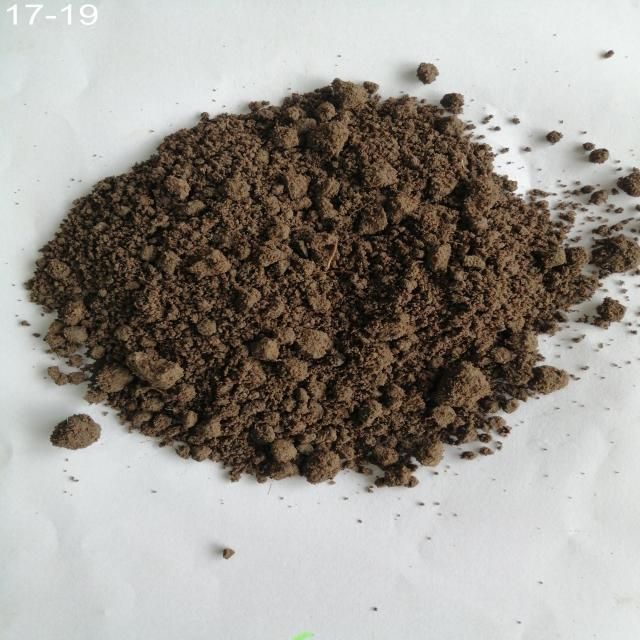soil: (170, 144, 494, 415)
